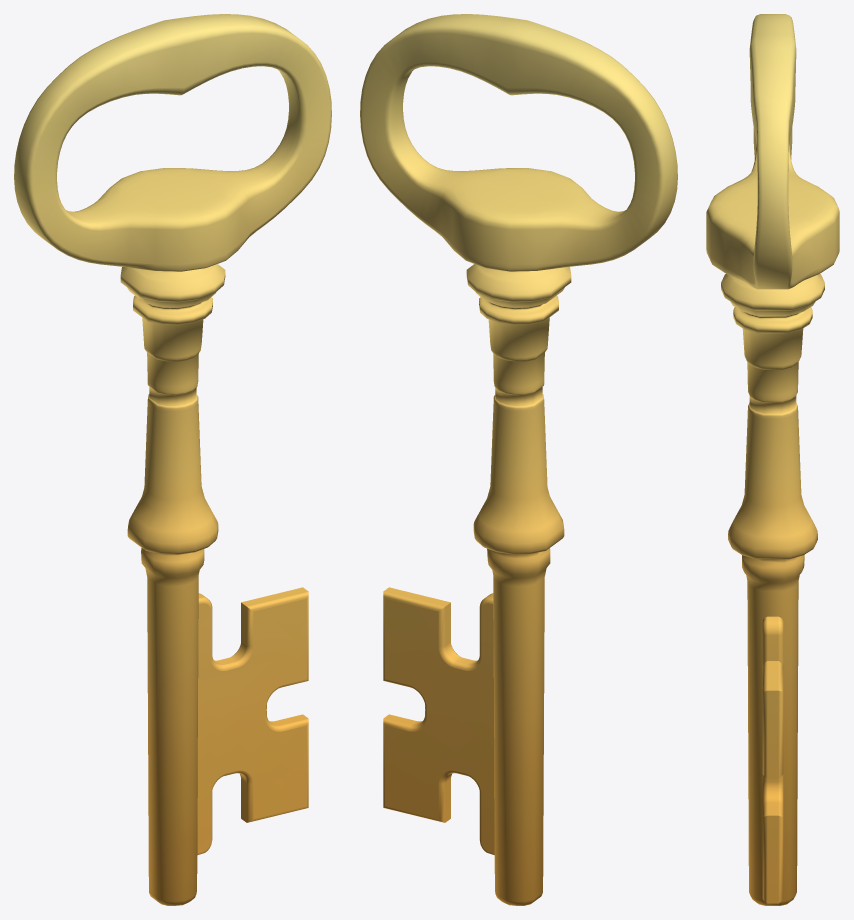
Rendered from Key.fbx.
3 views of the same model, side by side, from view 1: azimuth 30°, elevation 25°; view 2: azimuth 150°, elevation 25°; view 3: azimuth 270°, elevation 25° (orthographic).
Parts seen in each view (by area): view 1: Key; view 2: Key; view 3: Key.
Boxes of the visible parts, x1=… form: Key: x1=14, y1=14, x2=331, y2=905; Key: x1=360, y1=14, x2=677, y2=905; Key: x1=706, y1=14, x2=839, y2=905.
Size of the model in its own units: 63.31 by 173 by 24.39.
